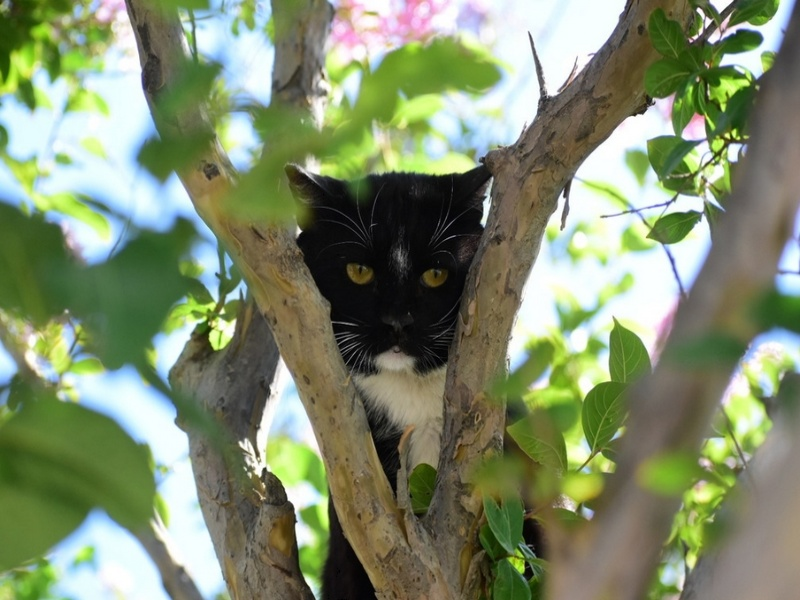cat: (278, 157, 571, 600)
